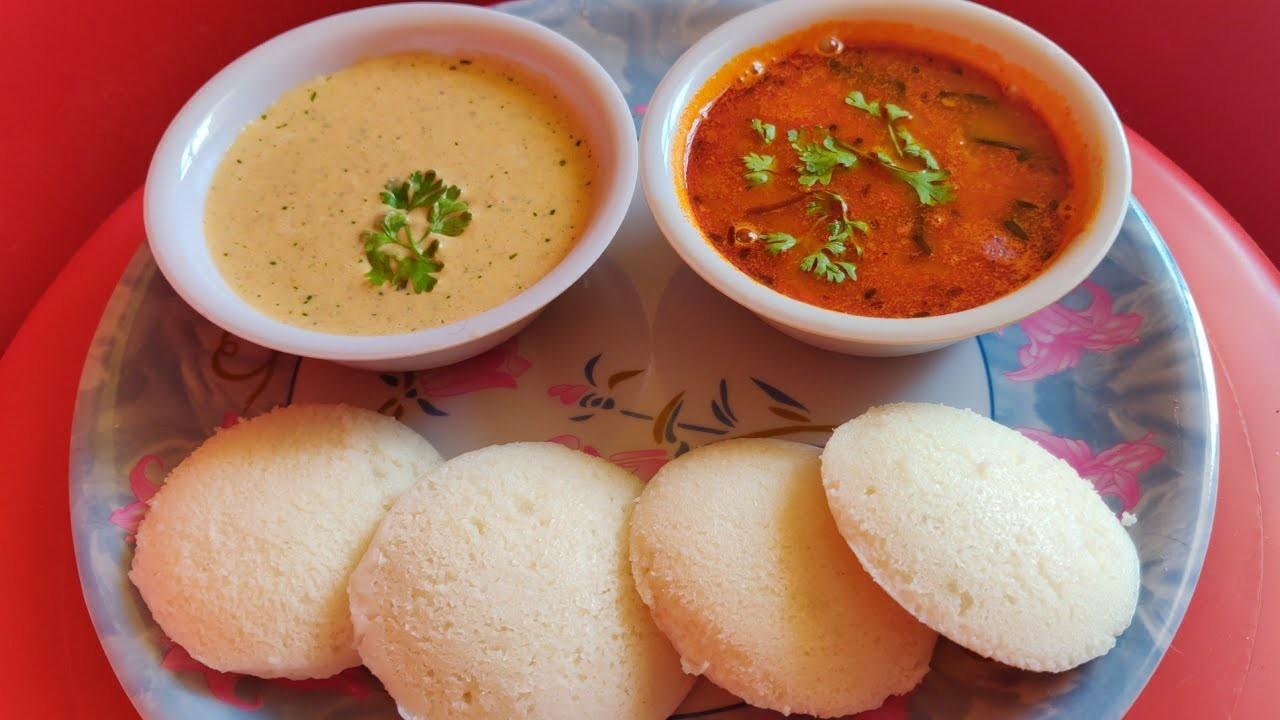CoconutChutney: (202, 52, 597, 336)
Idli: (348, 442, 694, 720), (129, 401, 442, 677), (629, 434, 937, 714), (825, 403, 1142, 672)
